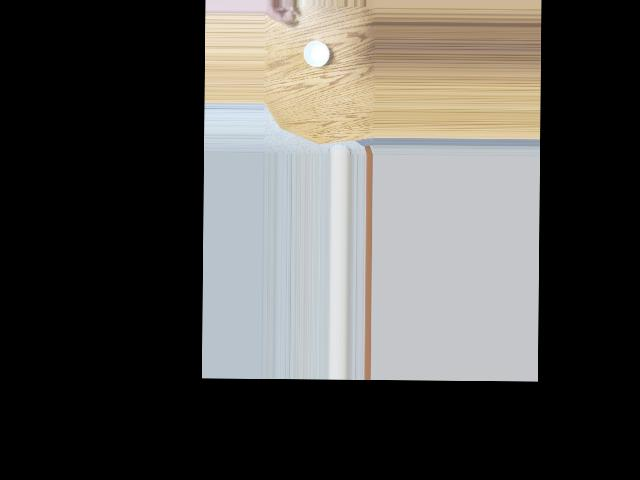cotage: (301, 38, 329, 69)
